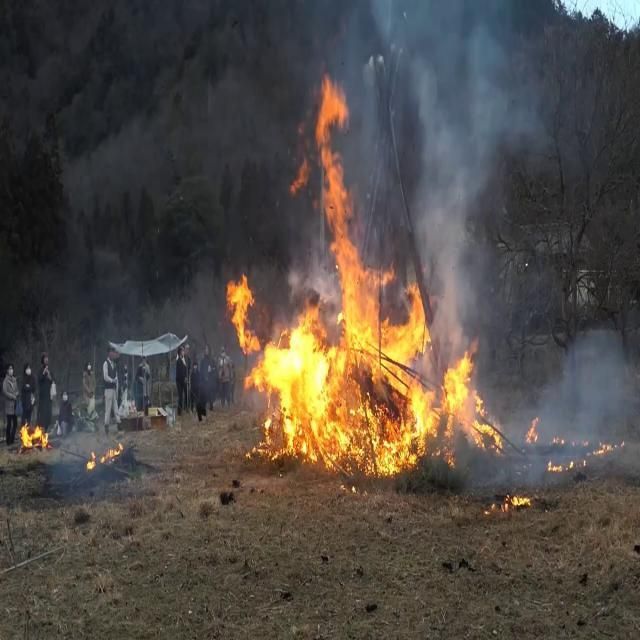Fire: (223, 181, 441, 487), (420, 322, 503, 462), (85, 437, 125, 474), (18, 416, 50, 450)
Smoke: (380, 1, 549, 302), (526, 315, 638, 469)
